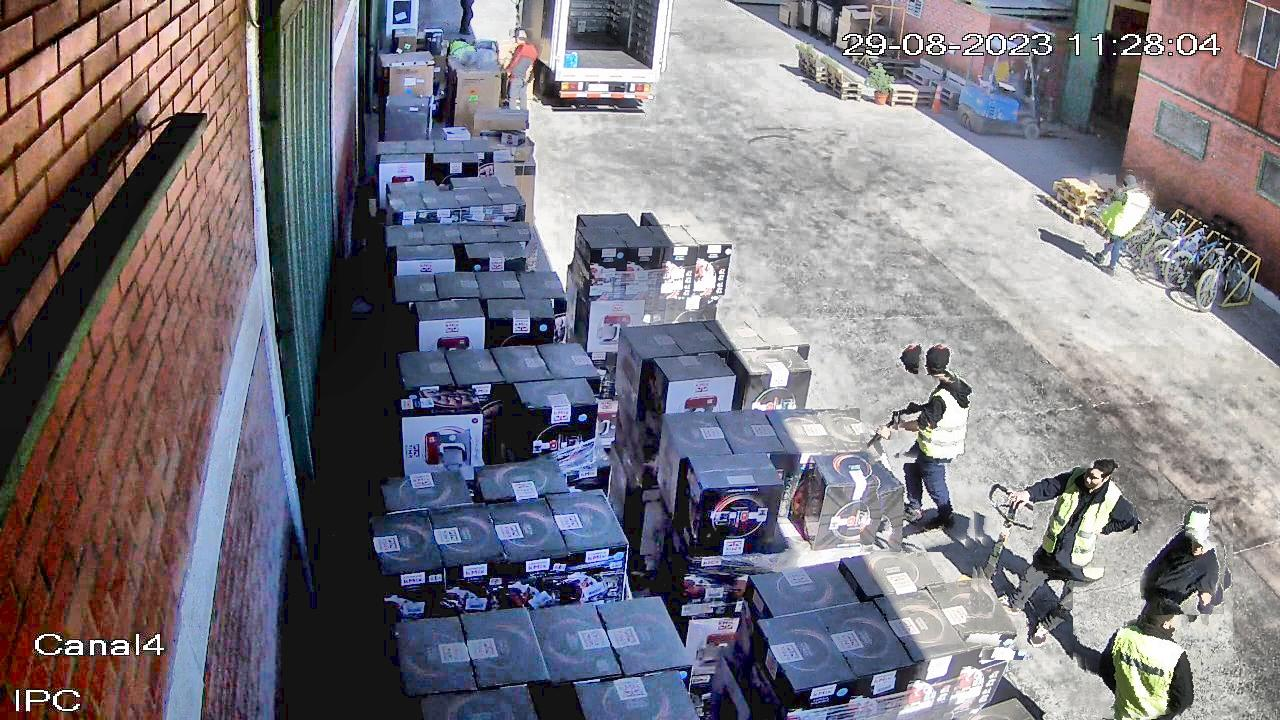con-casco: (1170, 504, 1223, 556), (510, 28, 534, 45)
con-chaleco: (1081, 615, 1201, 720), (1033, 468, 1137, 572), (897, 374, 977, 464), (1097, 185, 1152, 247), (448, 41, 477, 72)
persona: (970, 436, 1159, 660), (860, 331, 990, 553), (1100, 500, 1233, 671), (1073, 587, 1212, 720), (1083, 168, 1156, 284), (498, 28, 541, 130), (444, 36, 481, 105)
sin-casco: (1142, 597, 1211, 651), (1071, 451, 1130, 499), (920, 340, 962, 384), (1116, 171, 1144, 194), (457, 35, 471, 44)
sin-chaleco: (1139, 525, 1225, 615), (502, 39, 540, 81)
